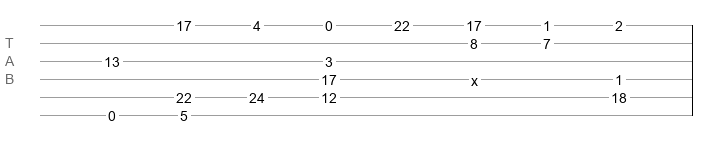0: (108, 108, 116, 118), (325, 18, 333, 28)
1: (543, 18, 551, 28), (615, 72, 623, 82)
12: (321, 90, 337, 100)
13: (104, 54, 120, 64)
17: (176, 18, 192, 28), (321, 72, 337, 82), (466, 18, 482, 28)
18: (611, 90, 627, 100)
2: (615, 18, 623, 28)
22: (176, 90, 192, 100), (394, 18, 410, 28)
24: (249, 90, 265, 100)
3: (325, 54, 333, 64)
4: (253, 18, 261, 28)
5: (180, 108, 188, 118)
7: (543, 36, 551, 46)
8: (470, 36, 478, 46)
x: (471, 73, 478, 81)
